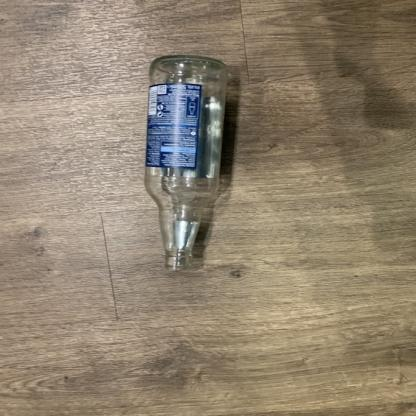trash: (148, 55, 225, 272)
